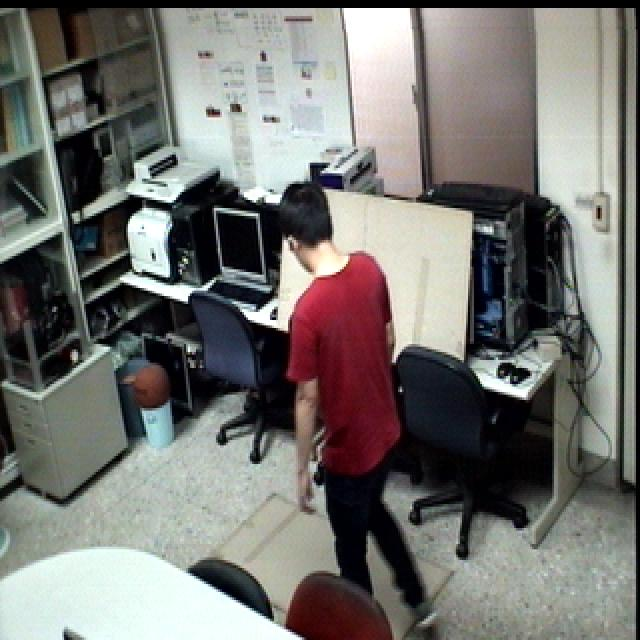stand: (269, 166, 438, 640)
